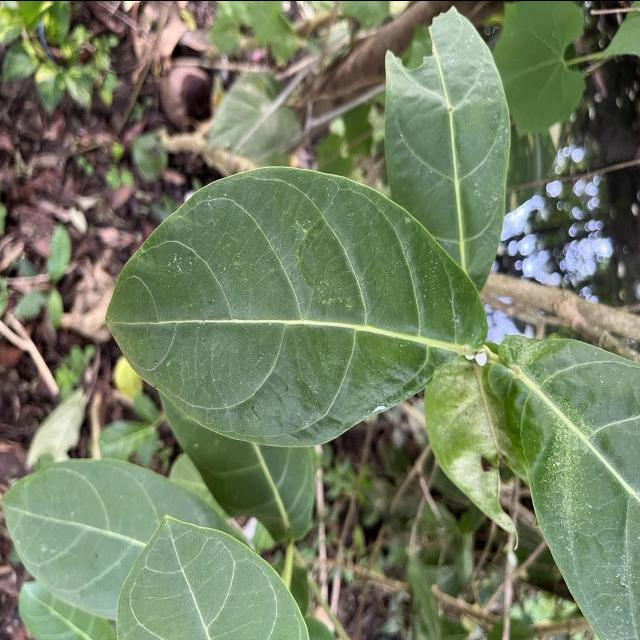Calotropis gigantea: (102, 162, 492, 452), (0, 455, 251, 621), (382, 3, 512, 290)
